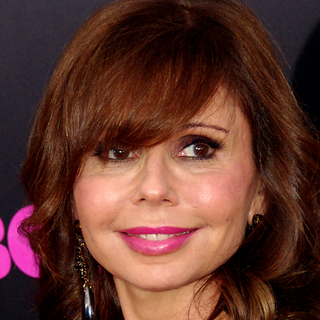eye: (173, 134, 223, 163), (94, 140, 139, 166)
